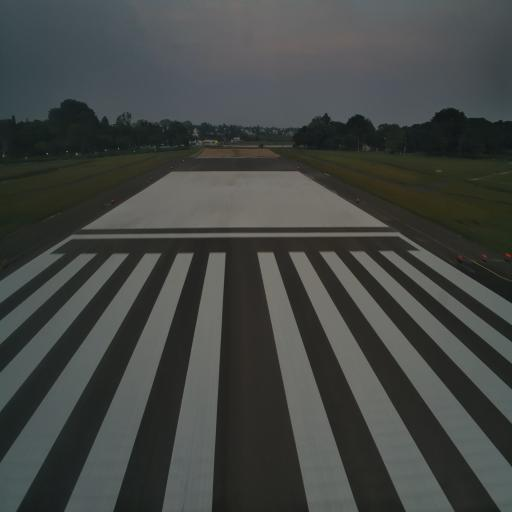on: (505, 243, 512, 262), (480, 248, 488, 264), (456, 251, 465, 263), (355, 196, 361, 206), (110, 196, 115, 205)
